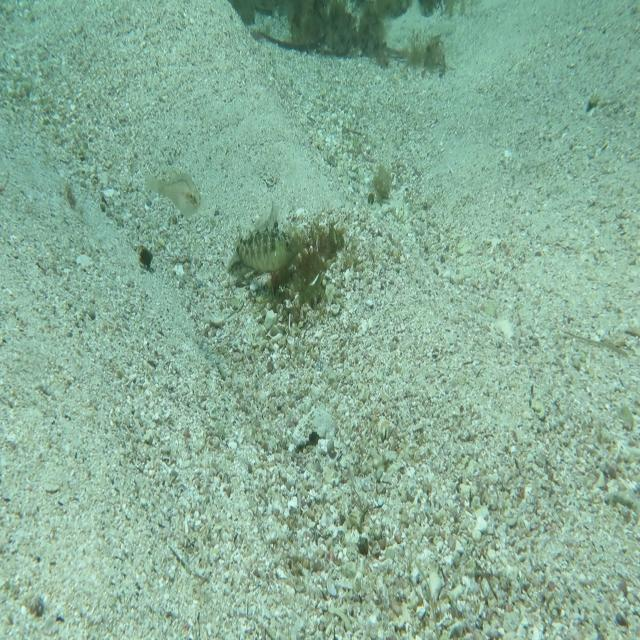BEND_OPP: (232, 212, 302, 278)
female: (226, 196, 283, 280)
nest: (260, 212, 364, 325)
other_fish: (141, 150, 207, 222)
